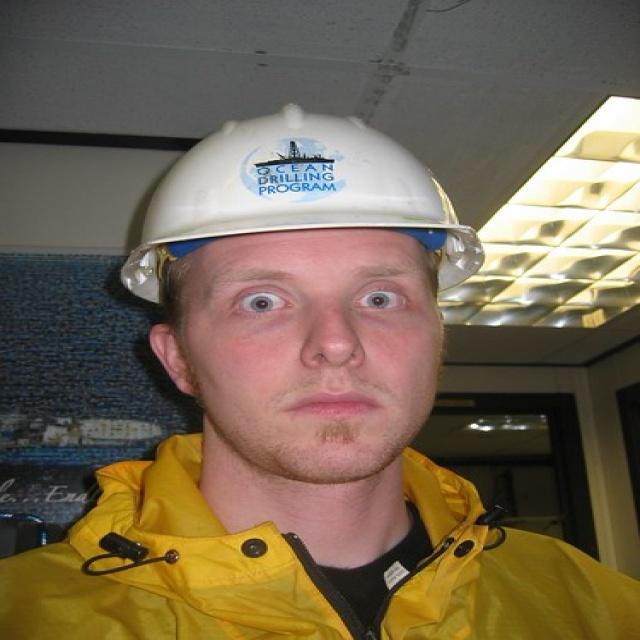helmet: (122, 133, 477, 335)
